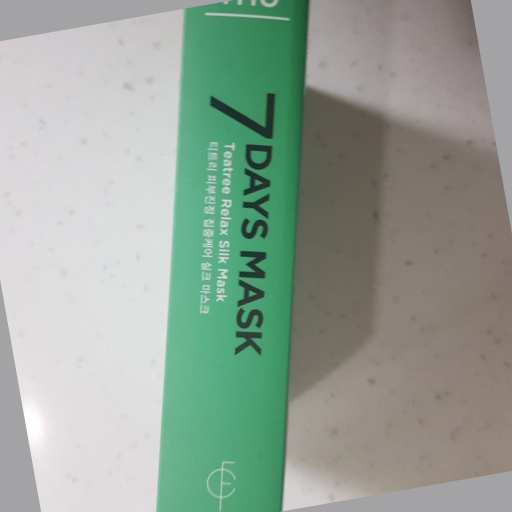Paper_0: (154, 1, 308, 512)
